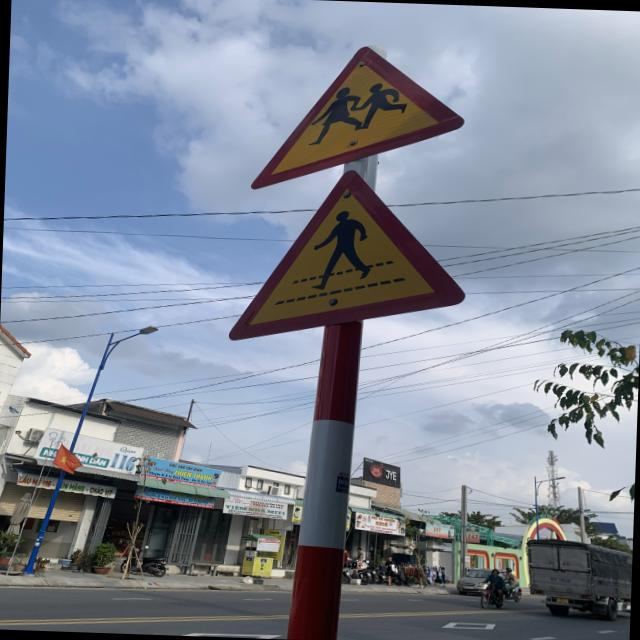Duong_Nguoi_Di_Bo_Sang_Ngang: (228, 165, 470, 348)
Vong_Xuyen: (252, 41, 469, 196)
